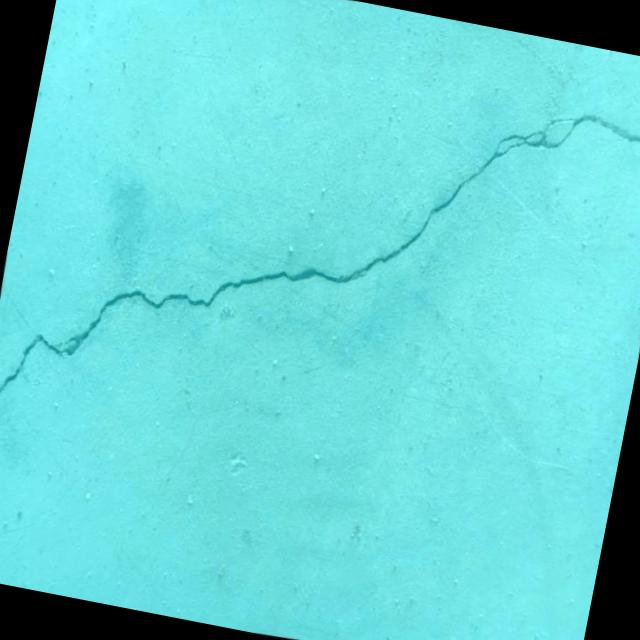crack: (0, 7, 640, 528), (629, 151, 640, 174)
